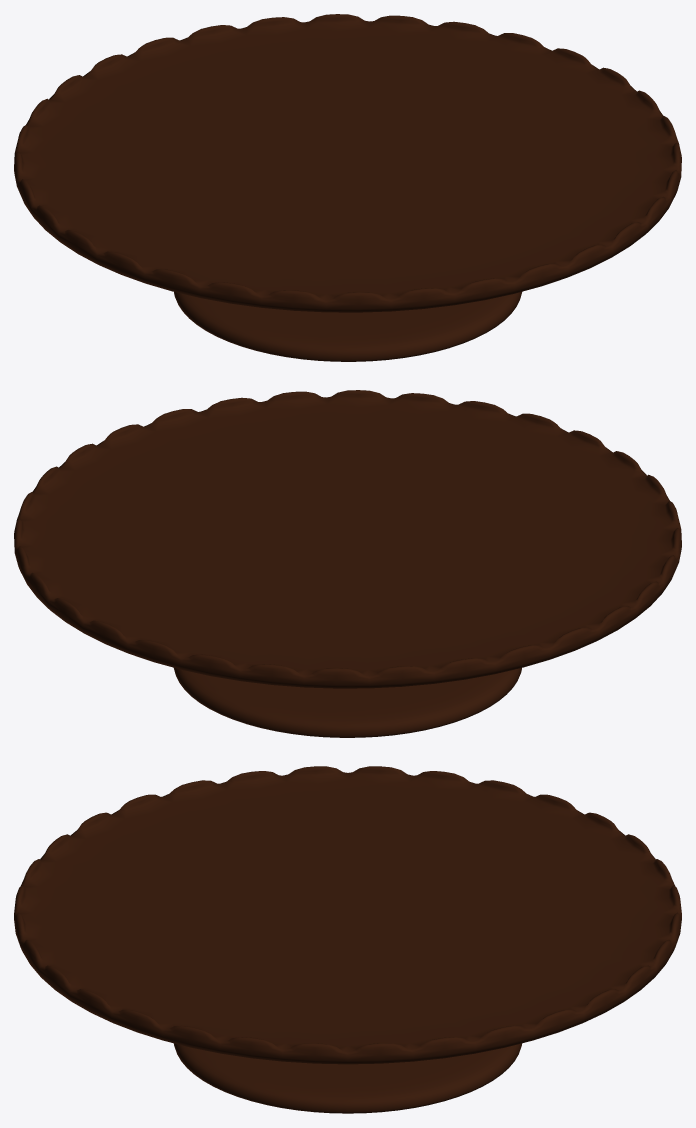
Rendered from VP_GlassDome_separate_VP_cake_stand_plate.FBX.
3 views of the same model, one above another, from view 1: azimuth 30°, elevation 25°; view 2: azimuth 150°, elevation 25°; view 3: azimuth 270°, elevation 25° (orthographic).
Visible parts, largest first — view 1: VP_GlassDome_separate_VP_cake_stand_plate; view 2: VP_GlassDome_separate_VP_cake_stand_plate; view 3: VP_GlassDome_separate_VP_cake_stand_plate.
Part boxes in pixels (<box>): VP_GlassDome_separate_VP_cake_stand_plate: <box>14,14,681,361</box>; VP_GlassDome_separate_VP_cake_stand_plate: <box>14,390,681,737</box>; VP_GlassDome_separate_VP_cake_stand_plate: <box>14,766,681,1113</box>.
Size of what is drawn, in the model's own units: 35.48 by 35.48 by 7.96.
